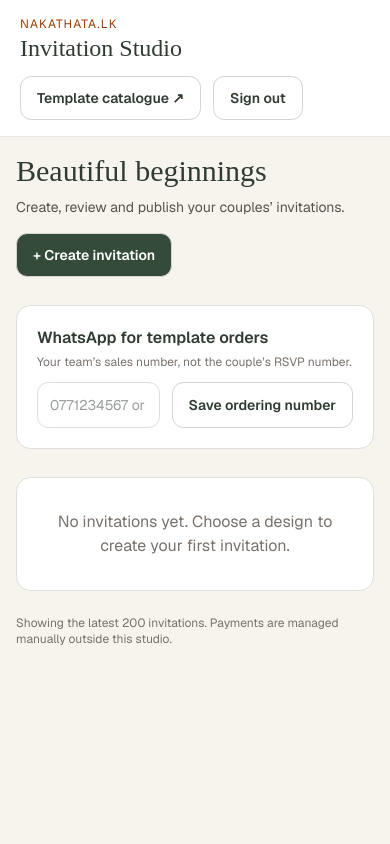
Test: Invitation Studio first template › lets mobile staff cancel template selection without creating a record
Step 1. Click the button "+ Create invitation" → (94, 255), box [16, 233, 172, 277]
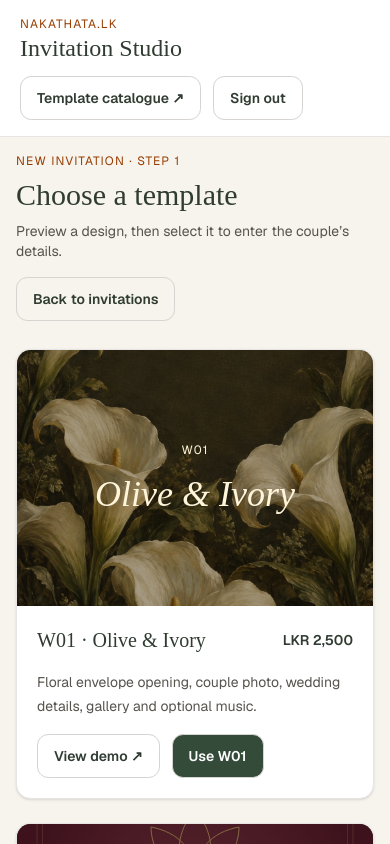
expect the heading "Choose a template" is shown: met, box [16, 178, 238, 211]
expect the button "Use W01" is shown: met, box [172, 734, 264, 778]
Step 2. Click the button "Back to invitations" → (96, 299), box [16, 277, 175, 321]
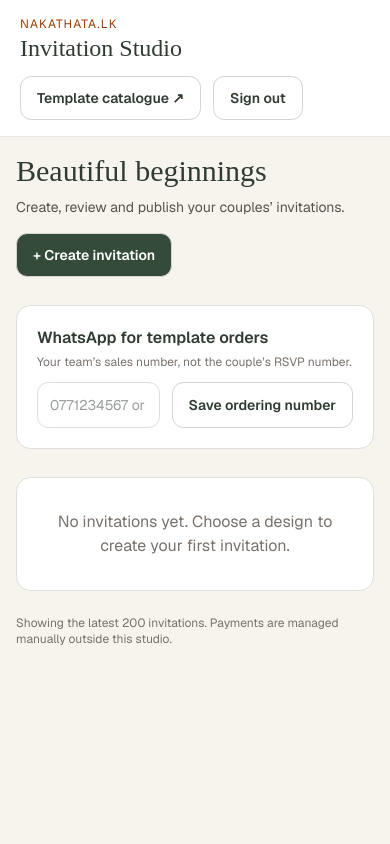
expect the heading "Beautiful beginnings" is shown: met, box [16, 154, 267, 187]
